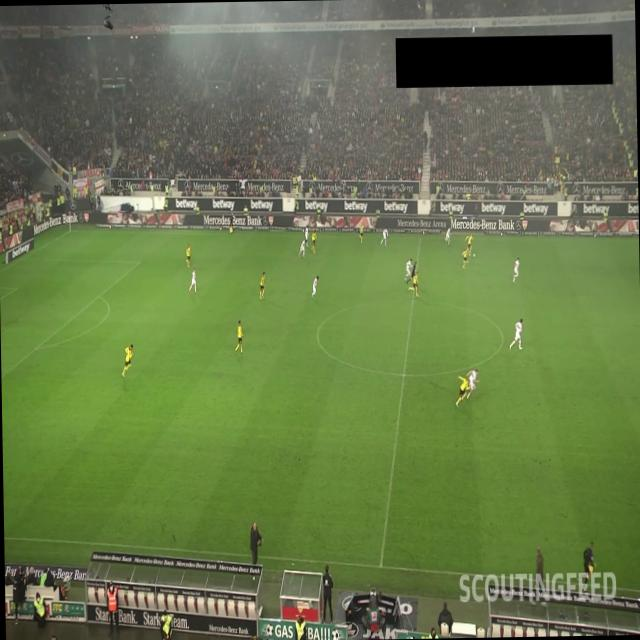ball: (472, 252, 476, 258)
player: (454, 368, 470, 408), (508, 317, 524, 350), (120, 344, 134, 376), (234, 319, 243, 354), (258, 270, 266, 300), (403, 258, 412, 284), (188, 267, 197, 293), (464, 232, 473, 258), (512, 256, 520, 282), (310, 275, 318, 298), (379, 227, 388, 246), (412, 270, 418, 298), (298, 238, 306, 258), (310, 228, 316, 254), (462, 246, 469, 268), (358, 224, 364, 243), (444, 227, 450, 246), (186, 242, 190, 268), (304, 224, 308, 244)
referee: (582, 540, 596, 602), (406, 260, 418, 284), (228, 210, 235, 235)
